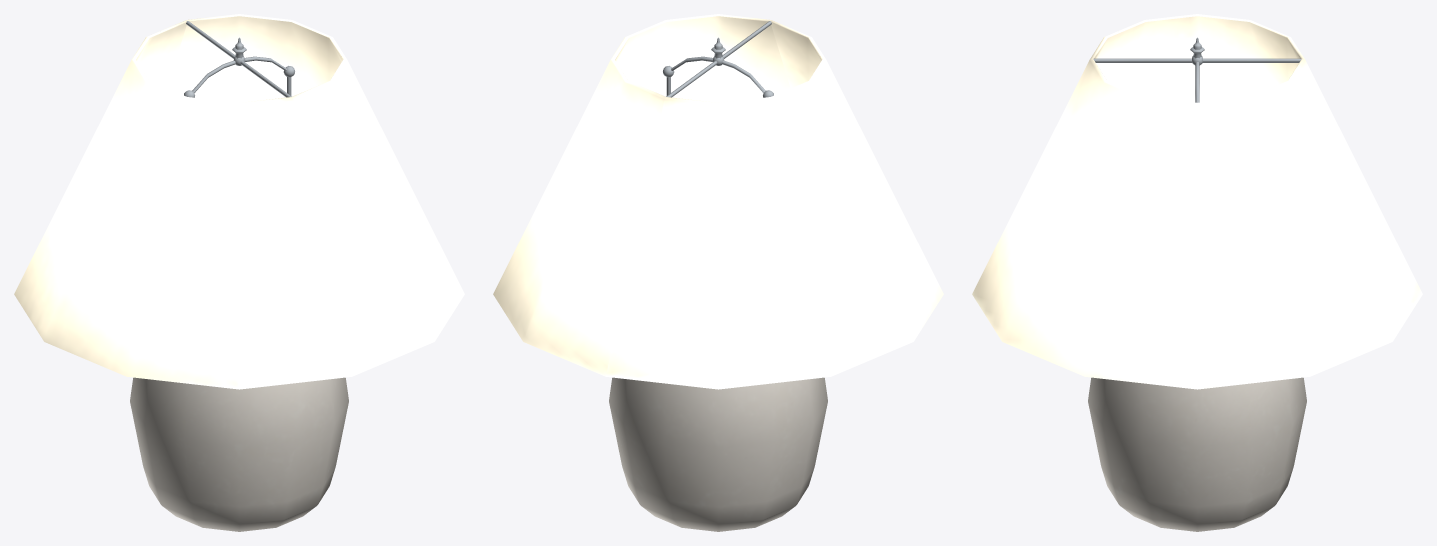
The model's file is Lights_Table_Lamps_8.fbx.
3 views of the same model, side by side, from view 1: azimuth 30°, elevation 25°; view 2: azimuth 150°, elevation 25°; view 3: azimuth 270°, elevation 25° (orthographic).
Parts seen in each view (by area): view 1: Cylinder.029; view 2: Cylinder.029; view 3: Cylinder.029.
Boxes of the visible parts, left/top/right/bottom form: Cylinder.029: left=14, top=14, right=464, bottom=531; Cylinder.029: left=493, top=14, right=943, bottom=531; Cylinder.029: left=972, top=14, right=1422, bottom=531.
Bounding box in the file's own units: 57.54 × 65.91 × 57.54.
